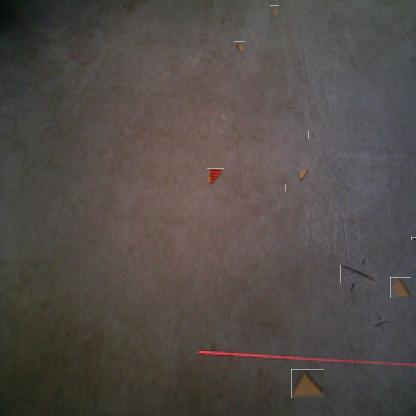dirty: (291, 369, 324, 398), (390, 277, 411, 298), (207, 168, 224, 186), (298, 166, 310, 182), (234, 41, 245, 53), (269, 6, 280, 18)
mark: (345, 261, 373, 288), (374, 316, 388, 330), (309, 131, 317, 140), (285, 102, 293, 110), (219, 16, 225, 24), (285, 184, 290, 192), (174, 283, 180, 289), (119, 30, 124, 35), (412, 236, 416, 241)
